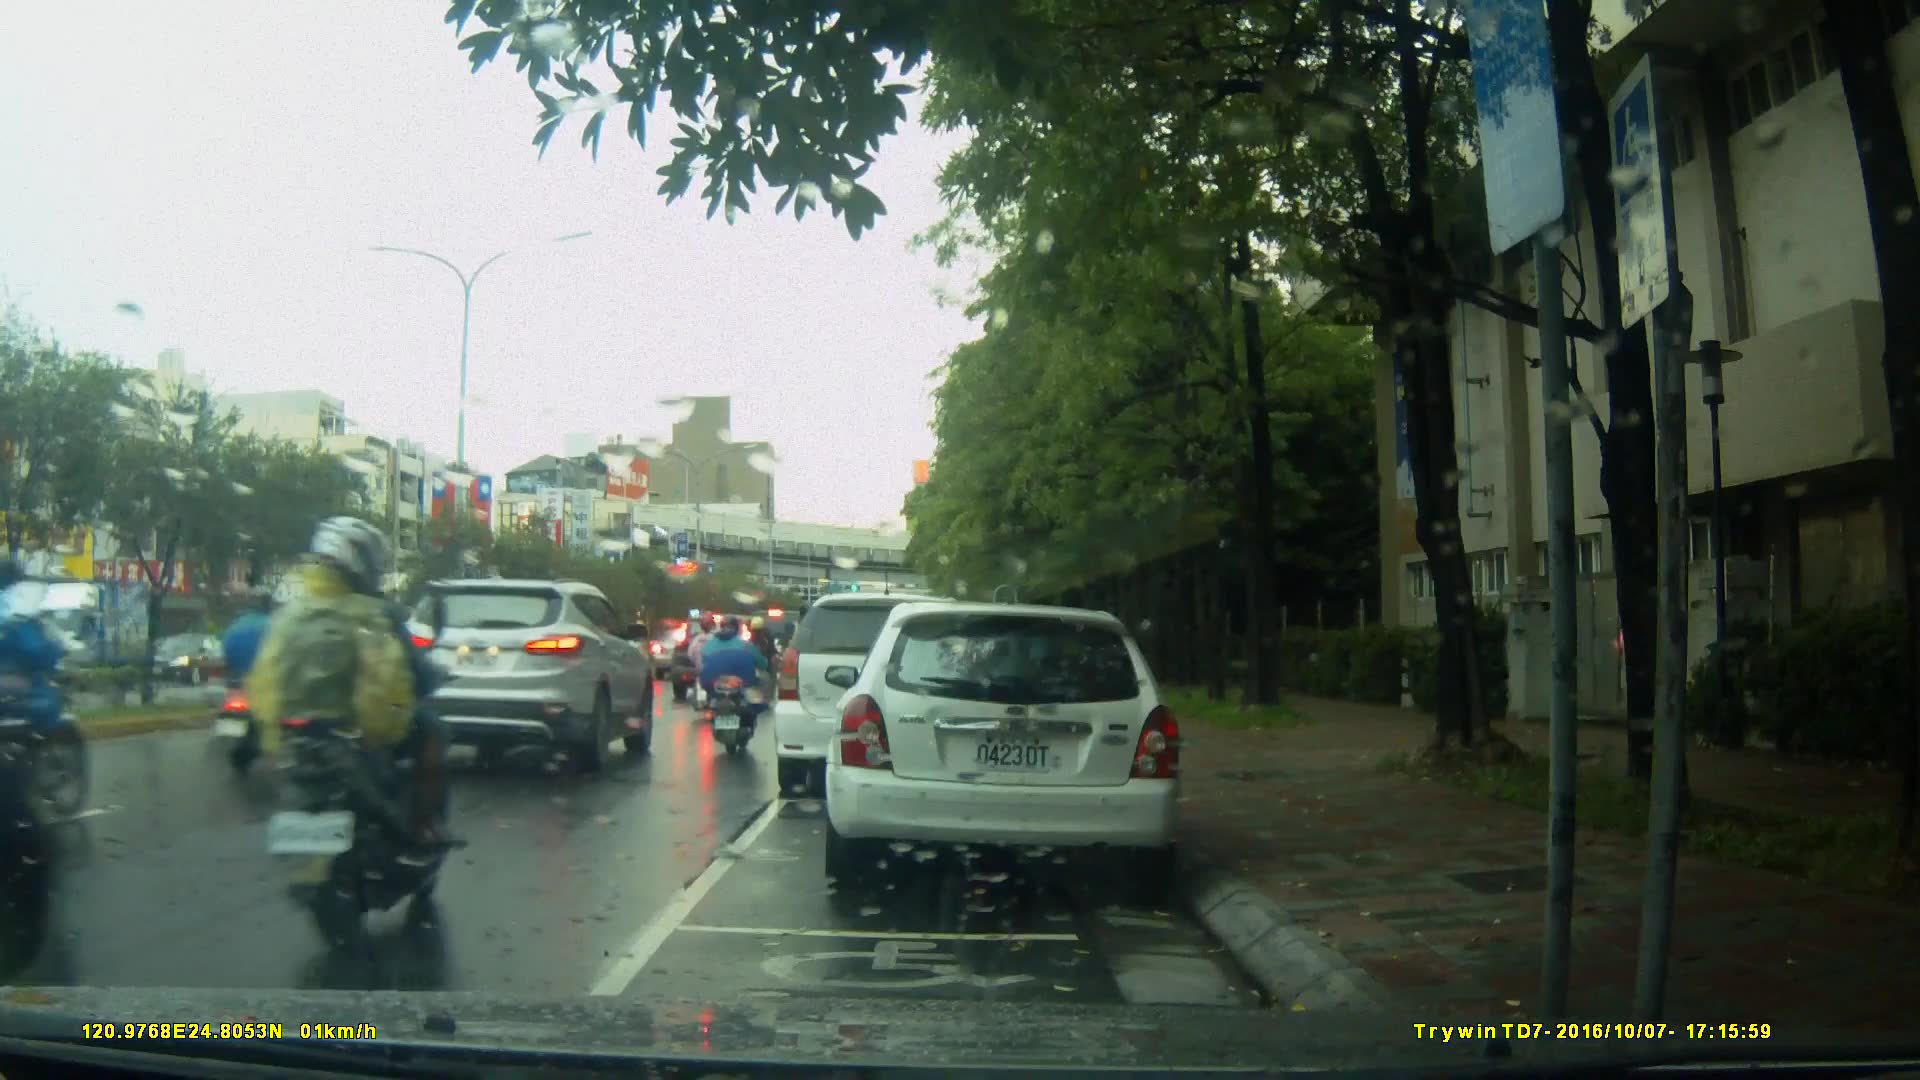rider: (244, 516, 450, 945), (1, 594, 87, 815), (217, 577, 314, 771), (697, 612, 771, 756), (682, 607, 731, 733), (740, 618, 782, 704), (791, 603, 818, 698)
vehicle: (822, 604, 1188, 883), (355, 570, 664, 773), (774, 595, 995, 802), (20, 576, 168, 697), (669, 613, 761, 704), (144, 630, 241, 686)
